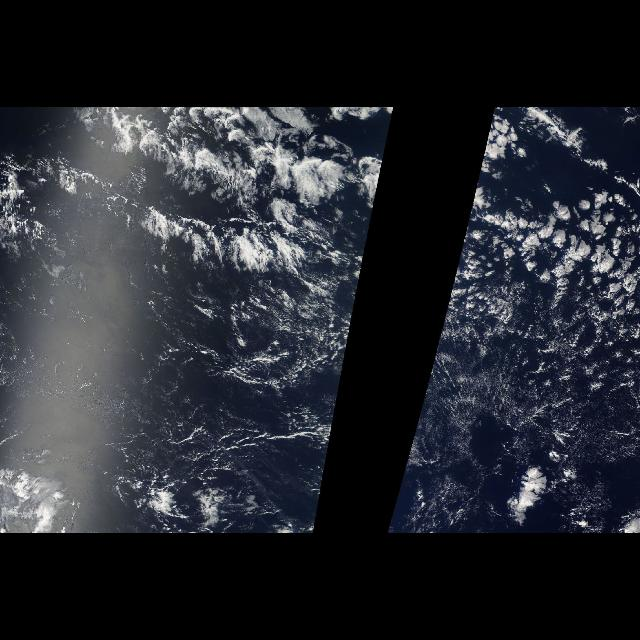Sugar: (408, 339, 488, 453)
